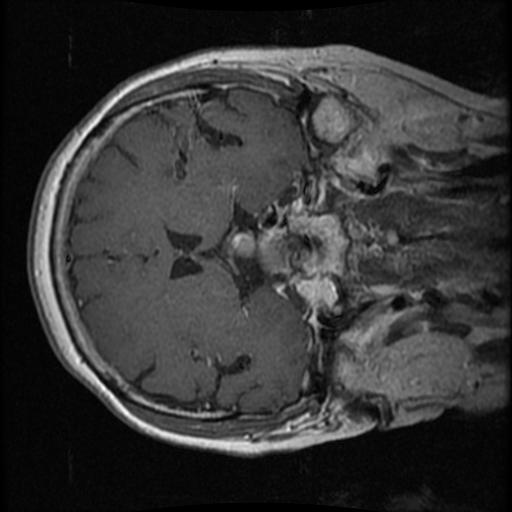pituitary tumour: (227, 228, 291, 272)
